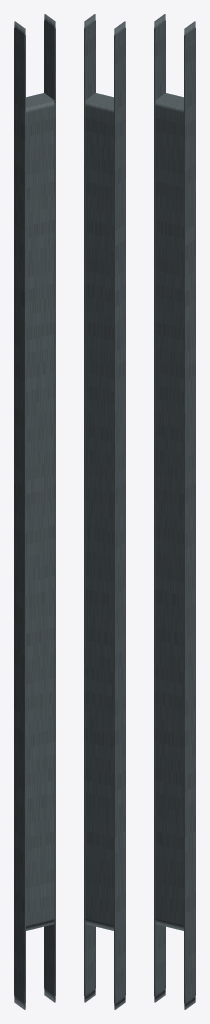
The model's file is exposed-stud.glb.
The picture shows the model from 3 angles, left to right: view 1: azimuth 30°, elevation 25°; view 2: azimuth 150°, elevation 25°; view 3: azimuth 330°, elevation 25°; orthographic projection.
Visible parts, largest first — view 1: duct, flange (×2); view 2: duct, flange (×2); view 3: duct, flange (×2).
Part boxes in pixels (box(x1,y1,x2,y2)): duct: box(26, 93, 54, 930); flange (×2): box(14, 14, 55, 1009); duct: box(85, 93, 113, 930); flange (×2): box(84, 14, 125, 1009); duct: box(155, 93, 183, 930); flange (×2): box(154, 14, 195, 1009).
Size of the model in its own units: 0.0896 by 2.7 by 0.054.
Materials: 1 (1 with a texture image).
